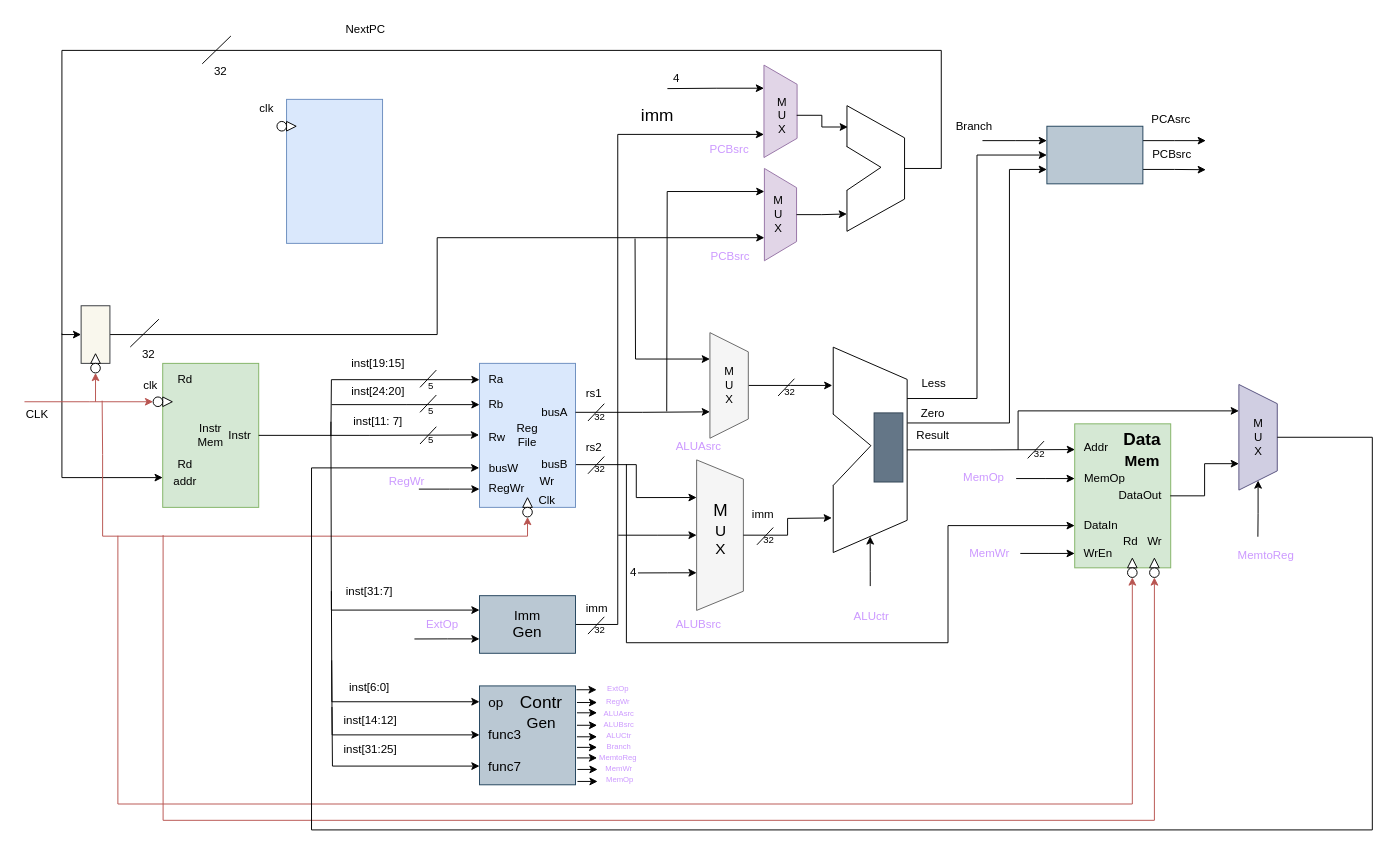
Some shapes in this 1397 by 854 pixel diagram are drawn without their labels. Here are the shapes that lost their labels. From the top down, the centre of each, then its label:
At point (334, 170): "CSR Reg".
At point (1094, 154): "Branch Cond".
At point (95, 334): "P C".
At point (888, 447): "A L U".
